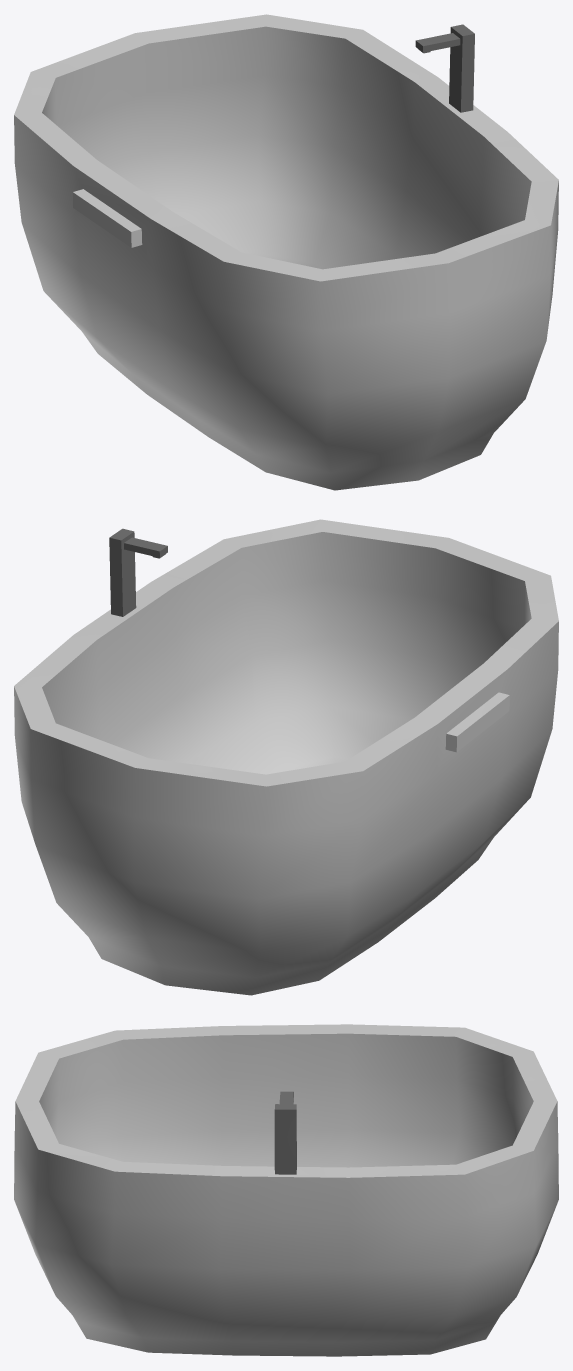
The model's file is BathTub.fbx.
3 views of the same model, one above another, from view 1: azimuth 30°, elevation 25°; view 2: azimuth 150°, elevation 25°; view 3: azimuth 270°, elevation 25° (orthographic). The views are drawn at different scales.
Visible parts, largest first — view 1: BathTub; view 2: BathTub; view 3: BathTub.
Boxes of the visible parts, left/top/right/bottom form: BathTub: left=14, top=14, right=558, bottom=490; BathTub: left=14, top=519, right=558, bottom=995; BathTub: left=14, top=1024, right=558, bottom=1356.
Bounding box in the file's own units: 1.01 × 0.8114 × 1.47.
